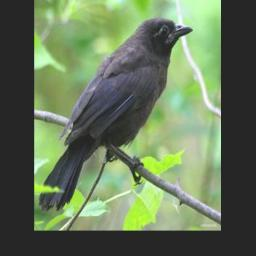Crow: (37, 15, 193, 212)
